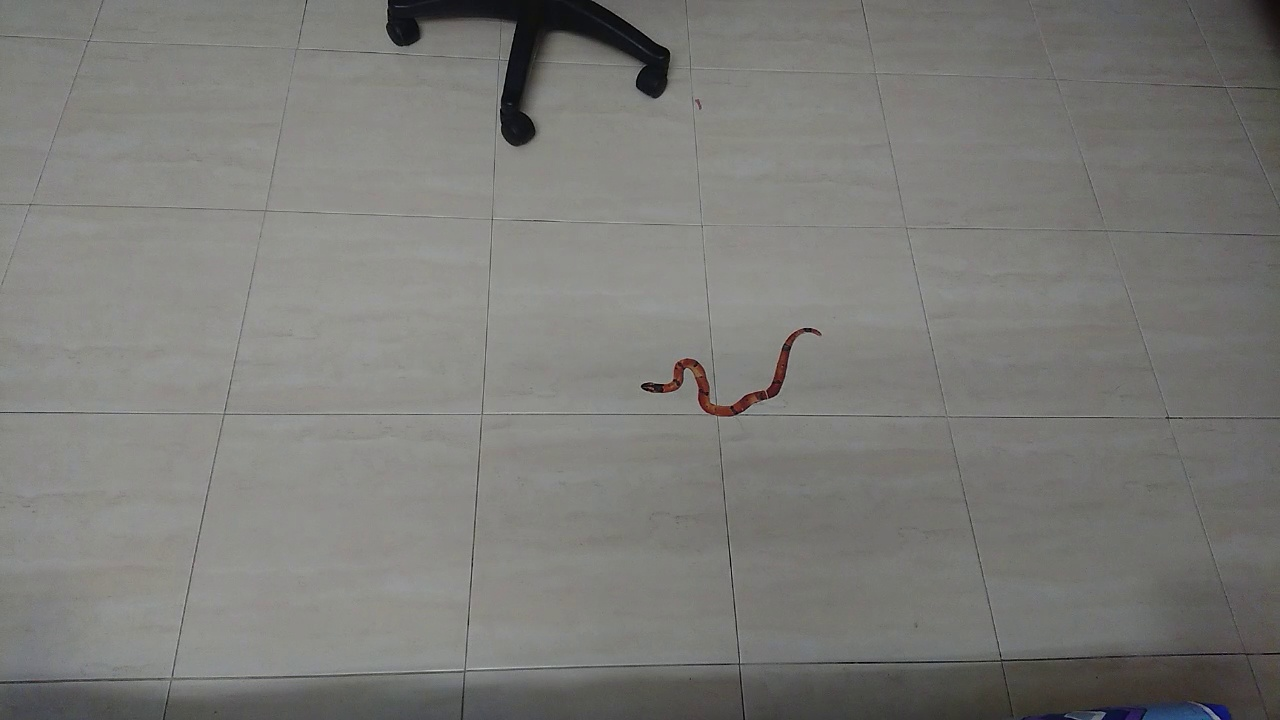snake: (626, 306, 839, 442)
